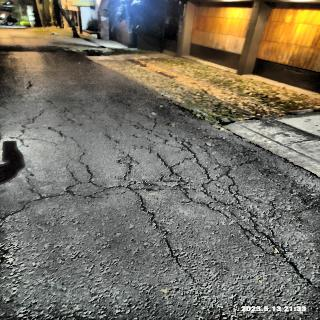alligator-crack: (89, 115, 320, 301)
